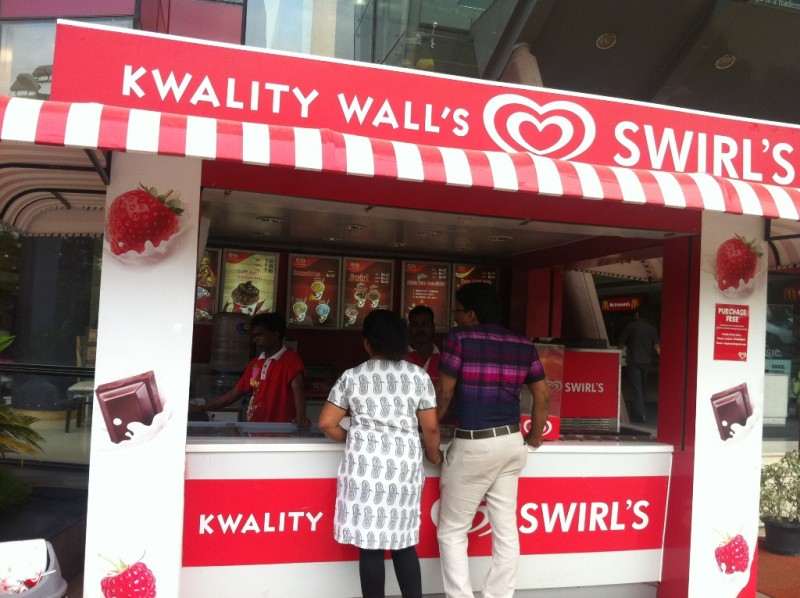Kwality_Walls: (480, 81, 602, 175)
